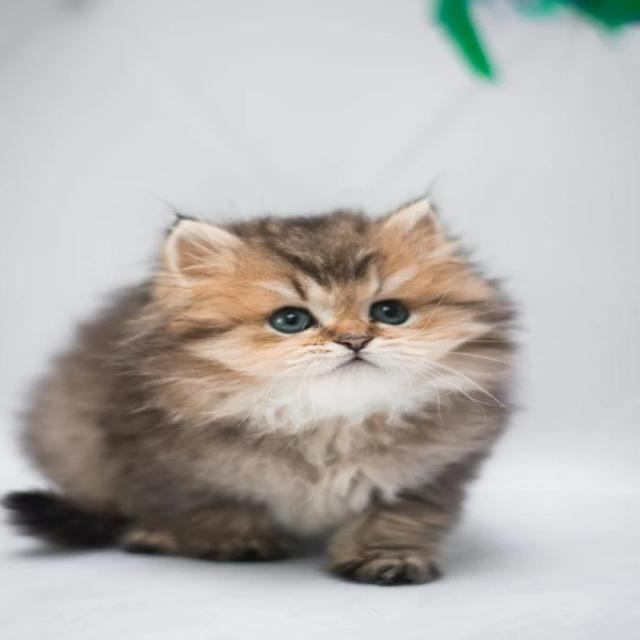Munchkin: (0, 190, 530, 589)
